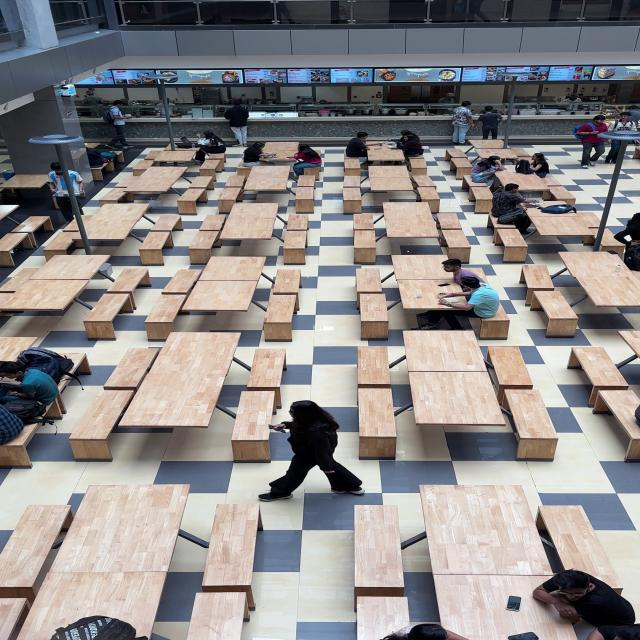Occupied: (504, 570, 640, 640), (0, 347, 70, 442), (425, 262, 498, 319), (32, 608, 155, 640), (342, 134, 420, 159), (492, 184, 534, 224), (174, 135, 233, 157), (382, 626, 473, 640), (284, 143, 323, 174), (245, 144, 277, 174), (511, 156, 554, 178), (468, 162, 507, 186), (537, 200, 581, 218), (626, 400, 640, 432)
Unoccupied: (416, 484, 552, 578), (60, 484, 182, 576), (399, 331, 508, 429), (352, 503, 410, 589), (231, 350, 280, 444), (203, 505, 257, 590), (186, 256, 261, 316), (1, 258, 78, 316), (552, 504, 618, 571), (36, 575, 166, 607), (86, 266, 148, 331), (159, 332, 225, 393), (0, 506, 46, 592), (520, 266, 579, 329), (125, 396, 211, 433), (506, 391, 558, 448), (263, 269, 306, 334), (433, 579, 495, 623), (190, 593, 247, 640), (567, 346, 627, 389), (74, 391, 122, 442), (352, 266, 391, 326), (105, 169, 184, 198), (382, 202, 438, 242), (589, 268, 640, 311), (105, 346, 148, 392), (359, 388, 397, 439), (88, 204, 132, 247), (223, 204, 271, 241), (351, 346, 393, 388), (138, 214, 178, 257), (356, 596, 408, 624), (363, 165, 412, 194), (279, 215, 310, 254), (0, 597, 28, 640), (537, 216, 590, 238), (190, 216, 221, 253), (350, 213, 380, 251), (440, 214, 471, 249), (555, 250, 626, 265), (388, 255, 422, 284), (492, 227, 527, 253), (465, 139, 511, 158), (392, 280, 422, 309), (244, 174, 287, 194), (511, 351, 532, 390), (188, 179, 213, 211), (413, 177, 440, 204), (215, 176, 241, 204), (157, 295, 180, 325), (8, 174, 48, 191), (441, 149, 467, 175), (14, 213, 38, 241), (294, 175, 318, 202), (340, 175, 362, 203), (44, 230, 70, 252), (0, 333, 37, 348), (543, 181, 570, 200), (622, 332, 640, 358), (198, 157, 219, 178), (43, 506, 58, 534), (166, 273, 184, 294), (0, 233, 14, 258), (600, 393, 632, 403), (79, 256, 108, 266), (589, 216, 600, 240), (342, 158, 359, 173), (128, 158, 150, 169), (601, 236, 619, 249), (228, 333, 243, 347), (157, 151, 173, 164), (177, 155, 188, 167)
